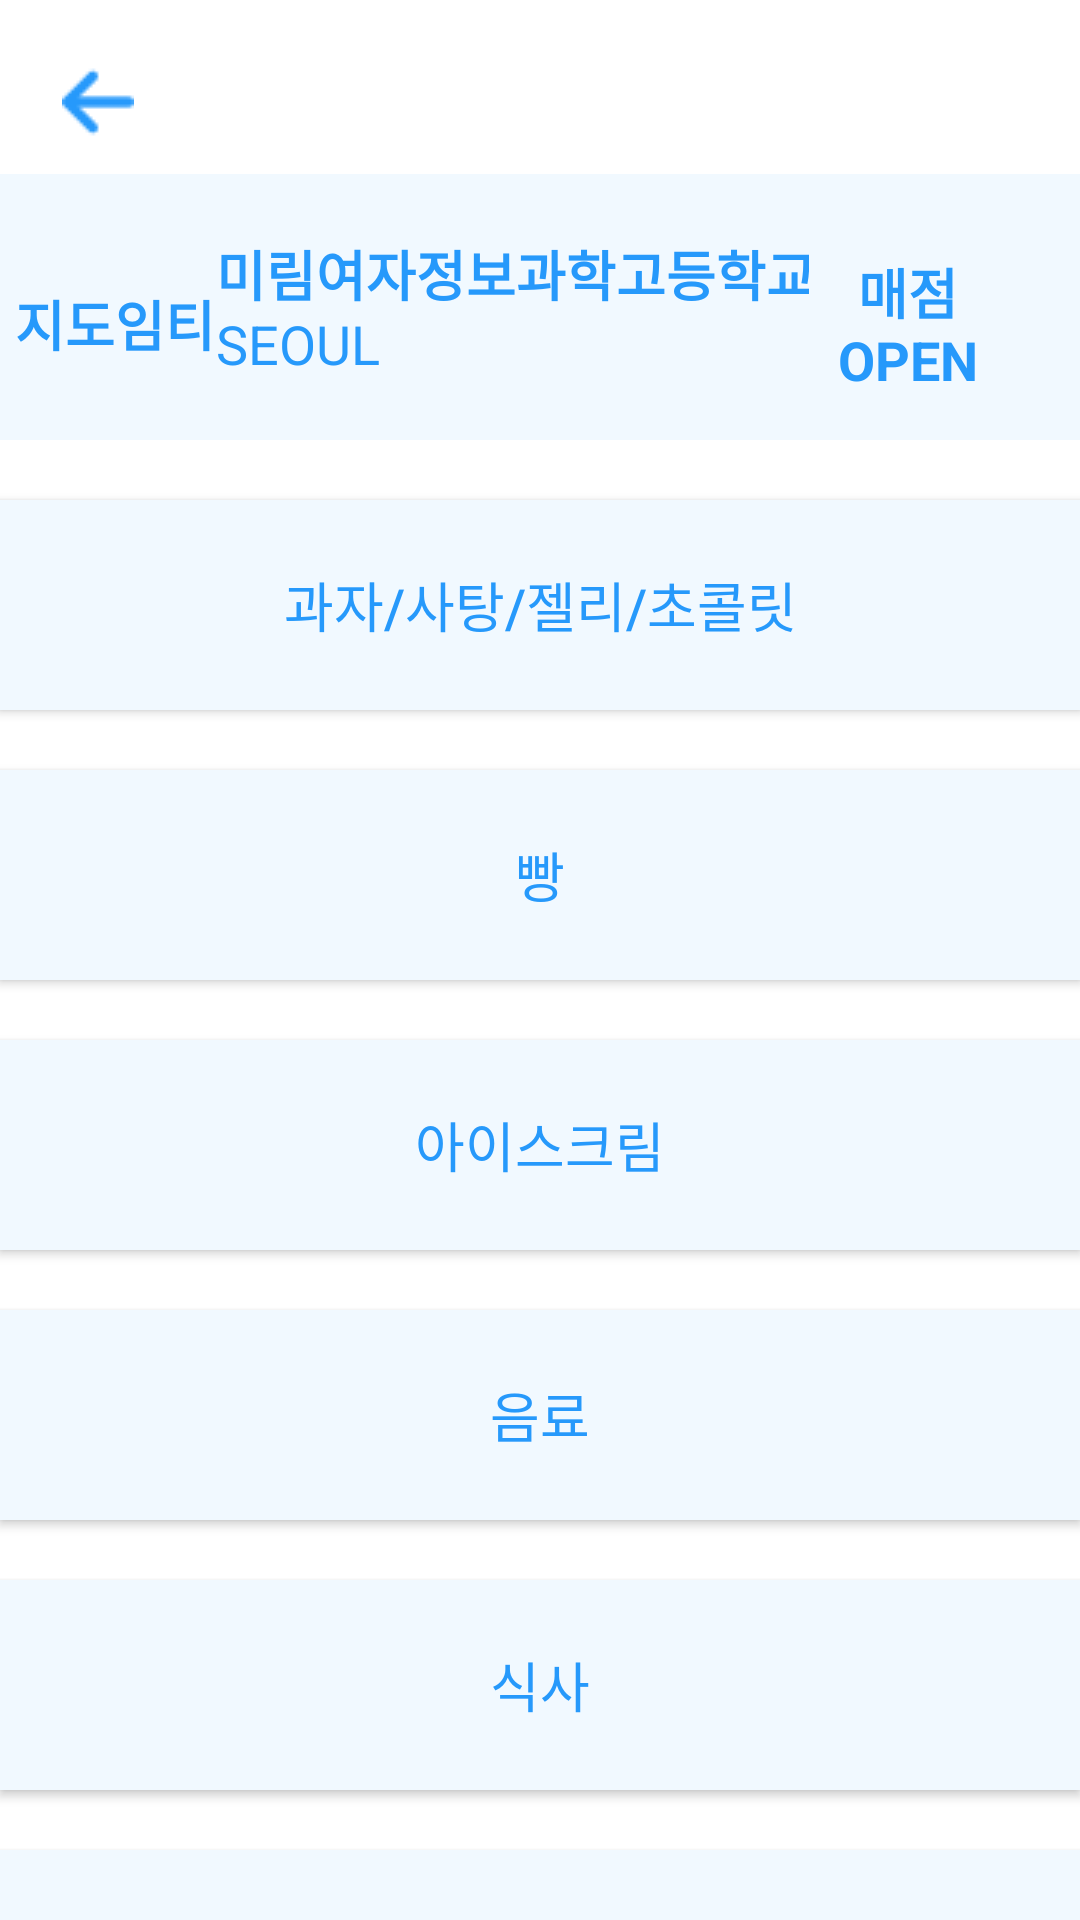

Locate icon controls on the screen. Image size 1080*1920, boxes as (x1, y1, x2, y2).
arrow: (62, 69, 134, 135)
